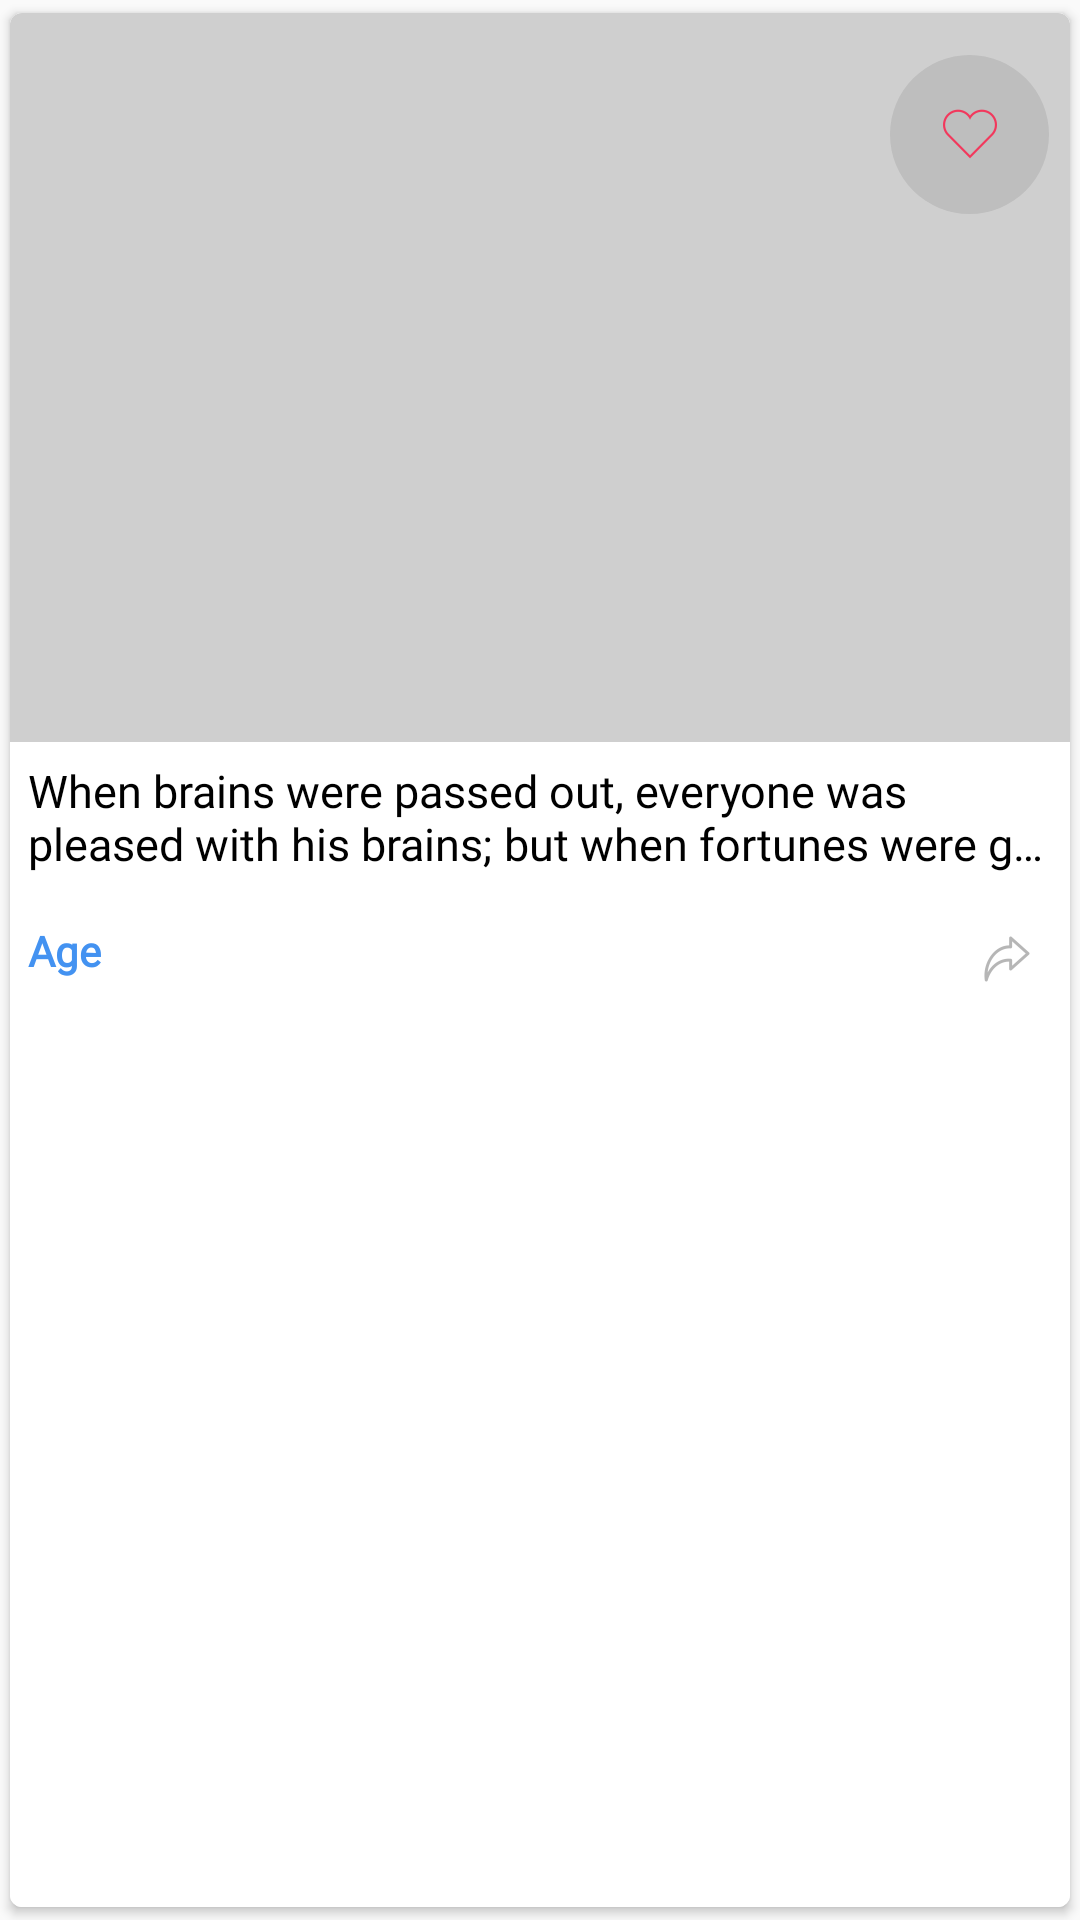

Icons on this 1080px×1920px Android screen, each with its box as (x1, y1, x2, y2):
recent favortie box: (943, 109, 997, 158)
share: (984, 936, 1030, 982)
